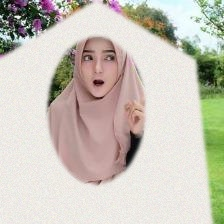Mukena: (0, 35, 209, 224)
